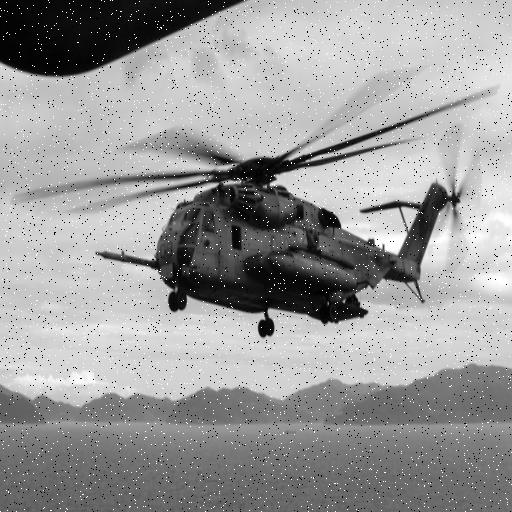helicopter: (91, 53, 505, 348)
